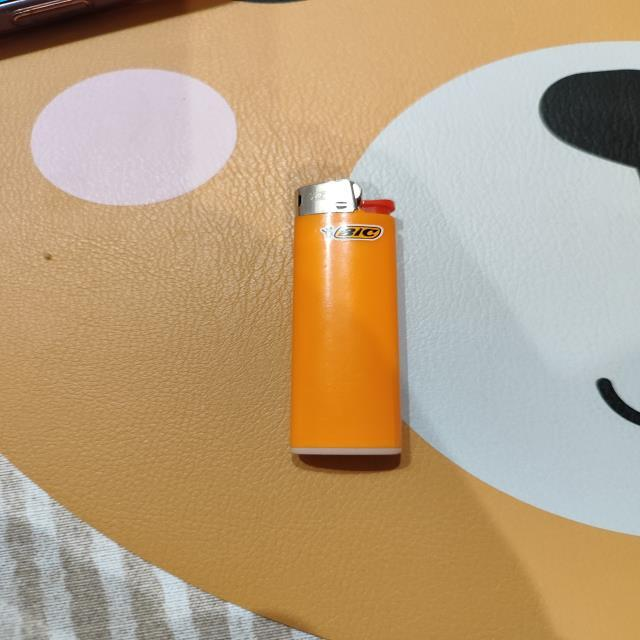lighter: (291, 179, 402, 456)
